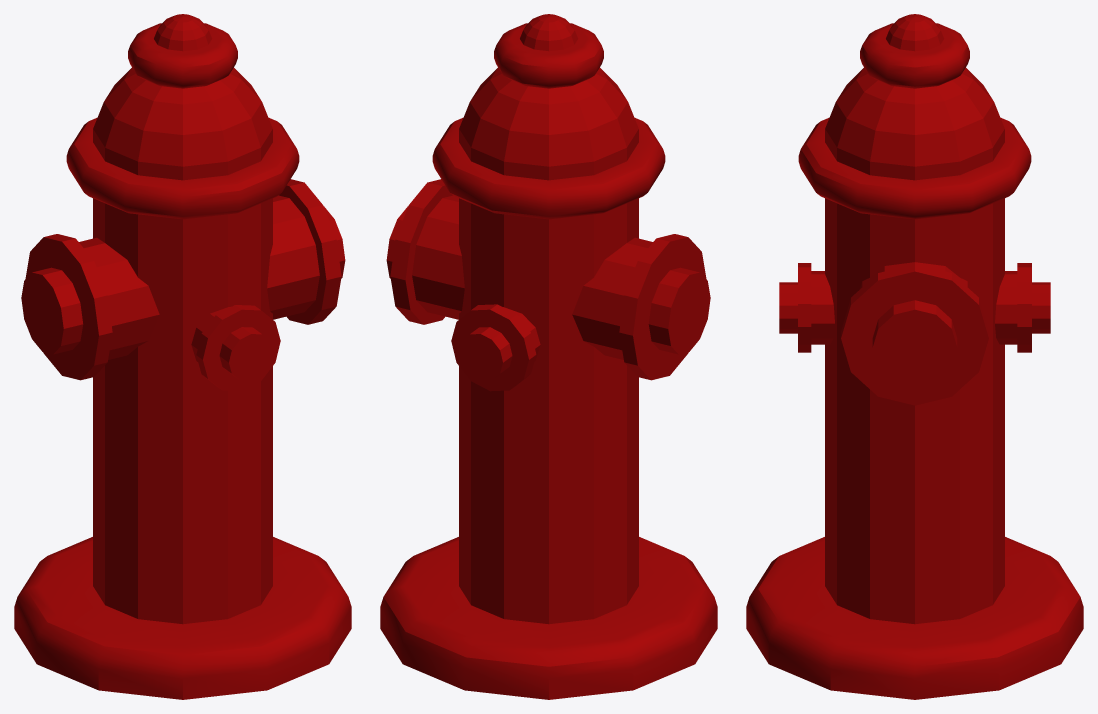
File: 38 Fire_Hydrants.fbx
The picture shows the model from 3 angles, left to right: view 1: azimuth 30°, elevation 25°; view 2: azimuth 150°, elevation 25°; view 3: azimuth 270°, elevation 25°; orthographic projection.
Parts seen in each view (by area): view 1: Fire_Hydrants; view 2: Fire_Hydrants; view 3: Fire_Hydrants.
Part boxes in pixels (x1,y1,x2,y2): Fire_Hydrants: (14,14,351,699); Fire_Hydrants: (380,14,717,699); Fire_Hydrants: (746,14,1083,699).
Bounding box in the file's own units: 13.29 × 26.58 × 13.29.
